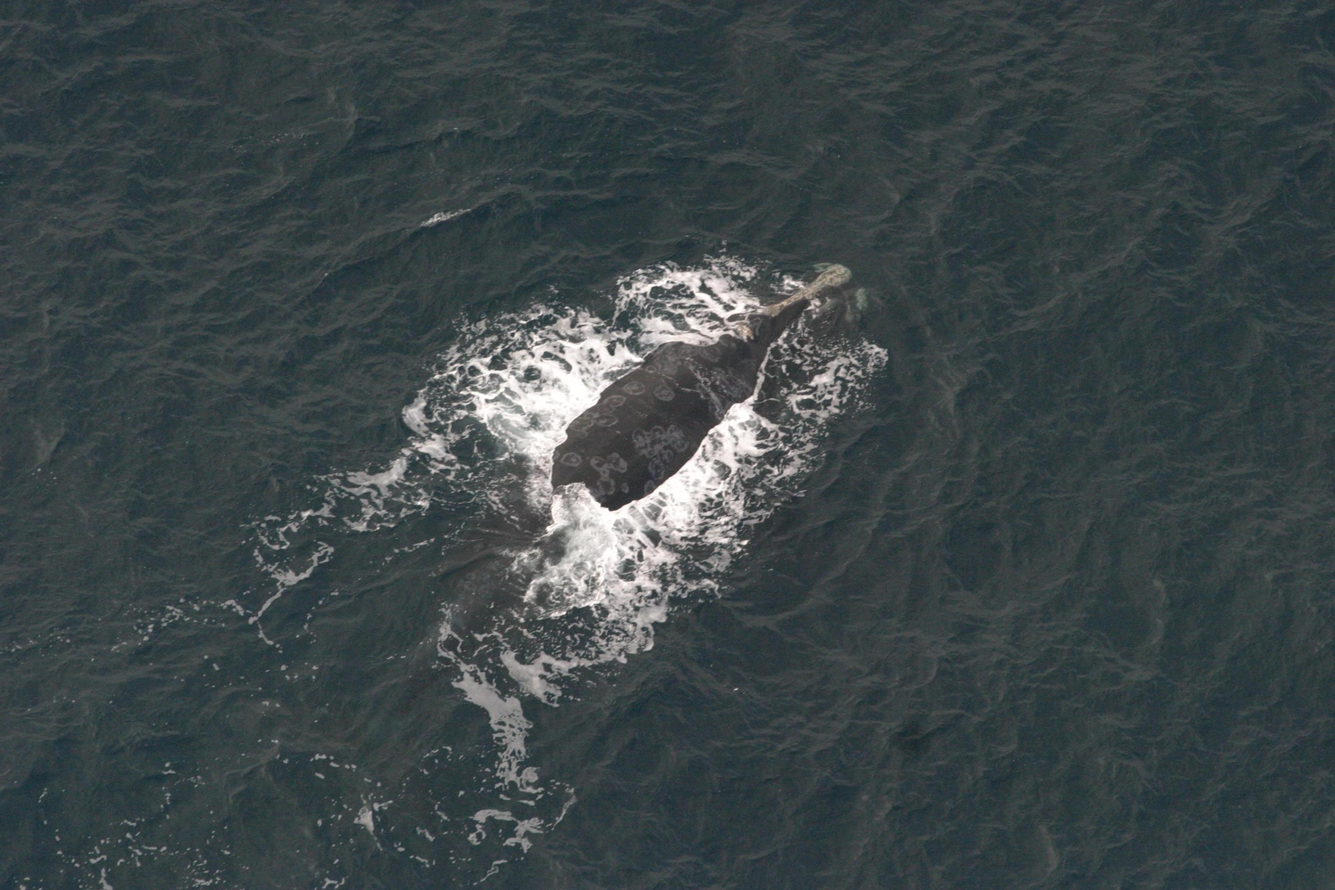whale: (376, 259, 874, 701)
